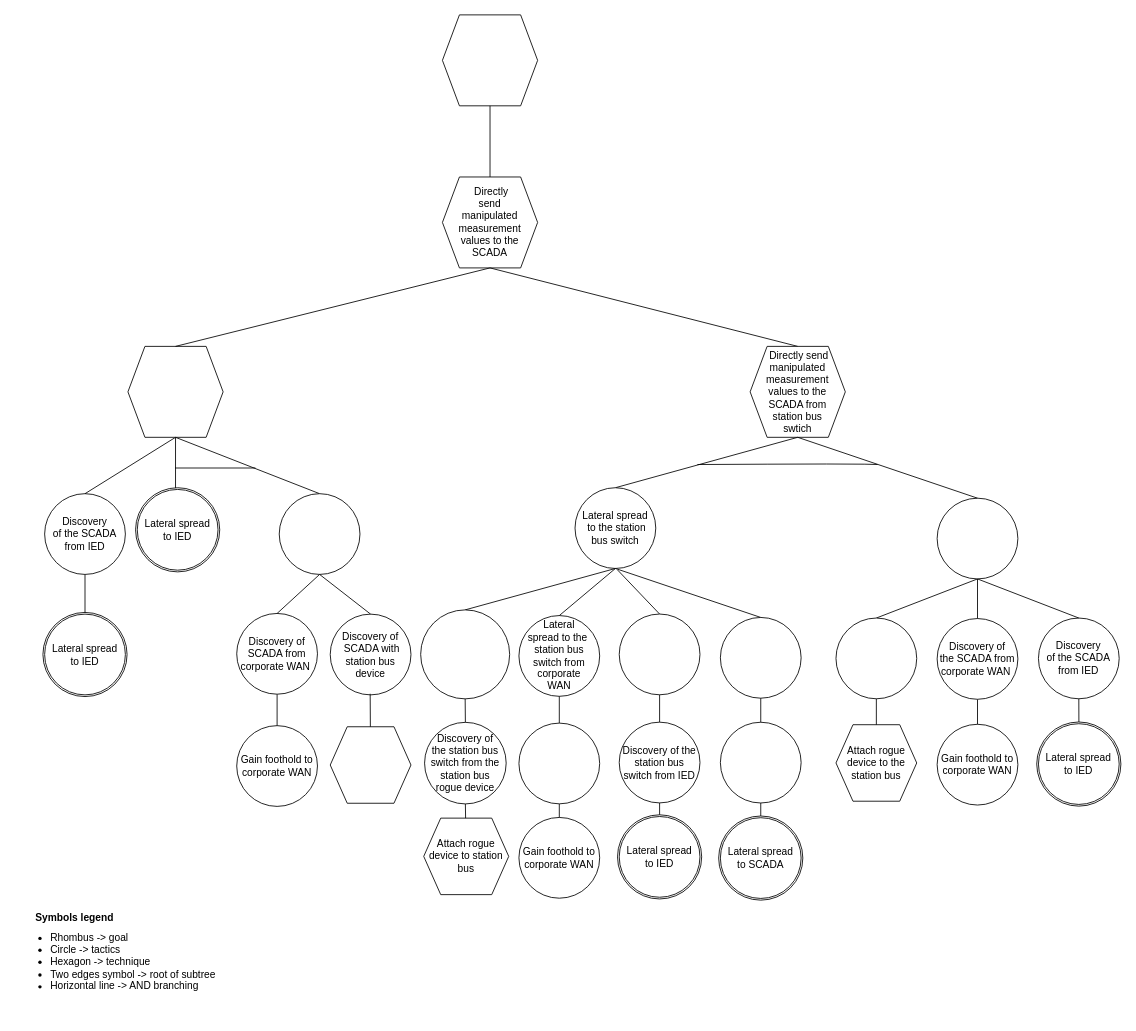
The diagram is 1136 pixels wide and 1031 high, and some of its shapes have lost their labels. The box of each missing label's shape, as (x1, y1, x2, y2) in pixels:
Attach rogue device to the process bus: (329, 726, 411, 803)
Directly send manipulated measurement values to the SCADA from IED: (127, 346, 223, 437)
Discovery of the SCADA: (936, 497, 1018, 579)
Discovery of the SCADA not from IED: (278, 493, 360, 574)
Discovery of the SCADA with the station bus rogue device: (835, 617, 917, 699)
Discovery of the station bus switch from corporate WAN: (518, 722, 600, 804)
Discovery of the station bus switch from SCADA: (720, 721, 801, 803)
Lateral spread to the station bus switch from IED: (618, 613, 700, 695)
Lateral spread to the station bus switch from SCADA: (720, 617, 801, 698)
Lateral spread to the station bus switch from the station bus rogue device: (420, 609, 510, 699)
Manipulate measurement values: (442, 14, 538, 106)
